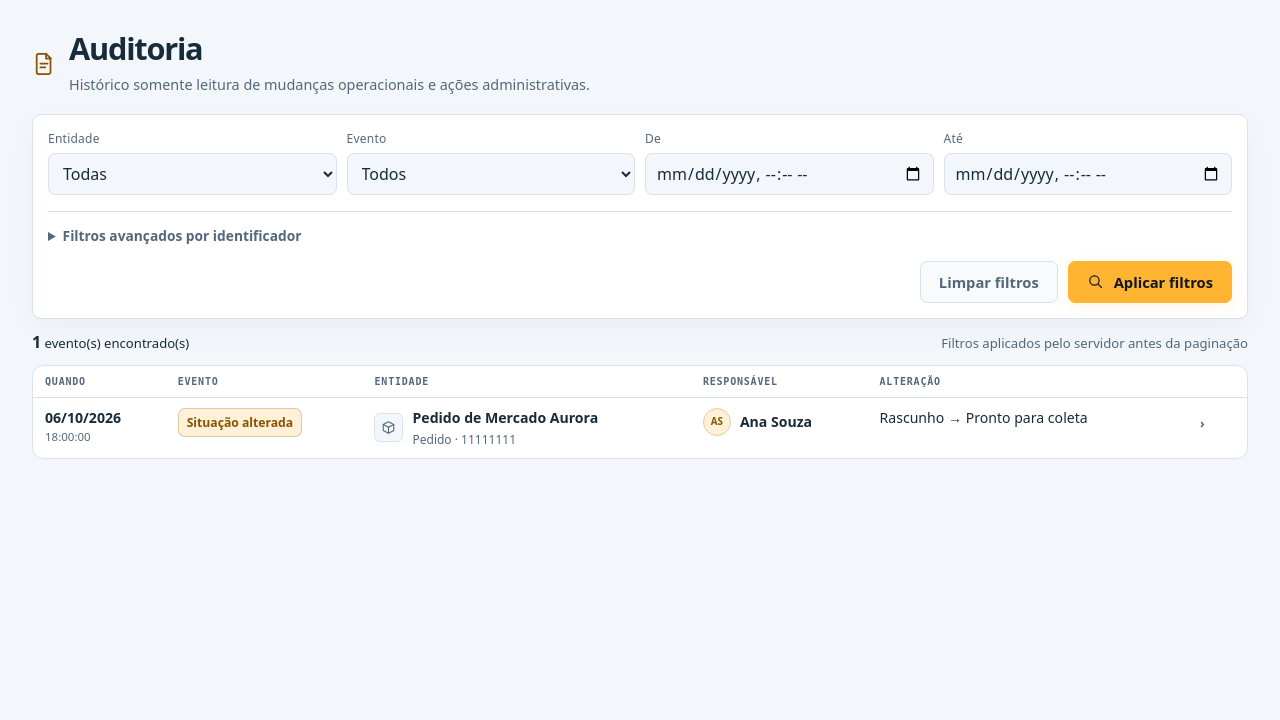
Test: AuditPage › prioriza nomes reais e revela UUIDs completos somente nos detalhes
Expected: the text "Pedido de Mercado Aurora" is shown, [412, 408, 598, 427]
Expected: the text "Pedido · 11111111" is shown, [412, 431, 516, 448]
Click the button named "Ver detalhes do evento 11111111": (1202, 423) [1187, 408, 1217, 438]
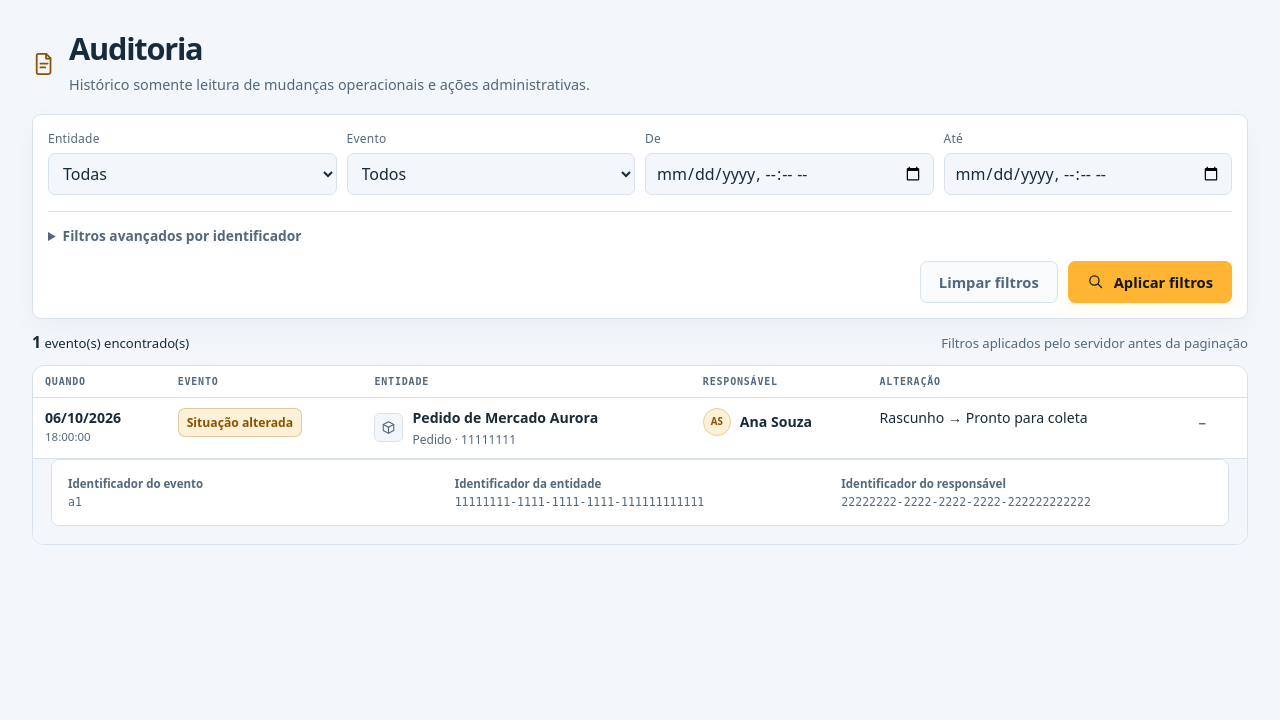
Expected: the text "11111111-1111-1111-1111-111111111111" is shown, [455, 495, 704, 509]
Expected: the text "22222222-2222-2222-2222-222222222222" is shown, [841, 495, 1091, 509]
